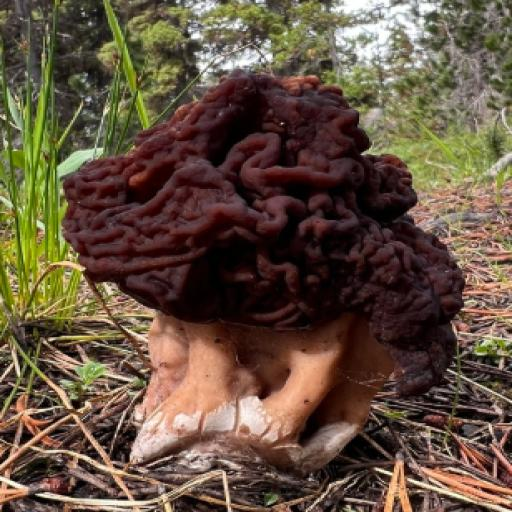False Morel: (9, 30, 492, 512)
